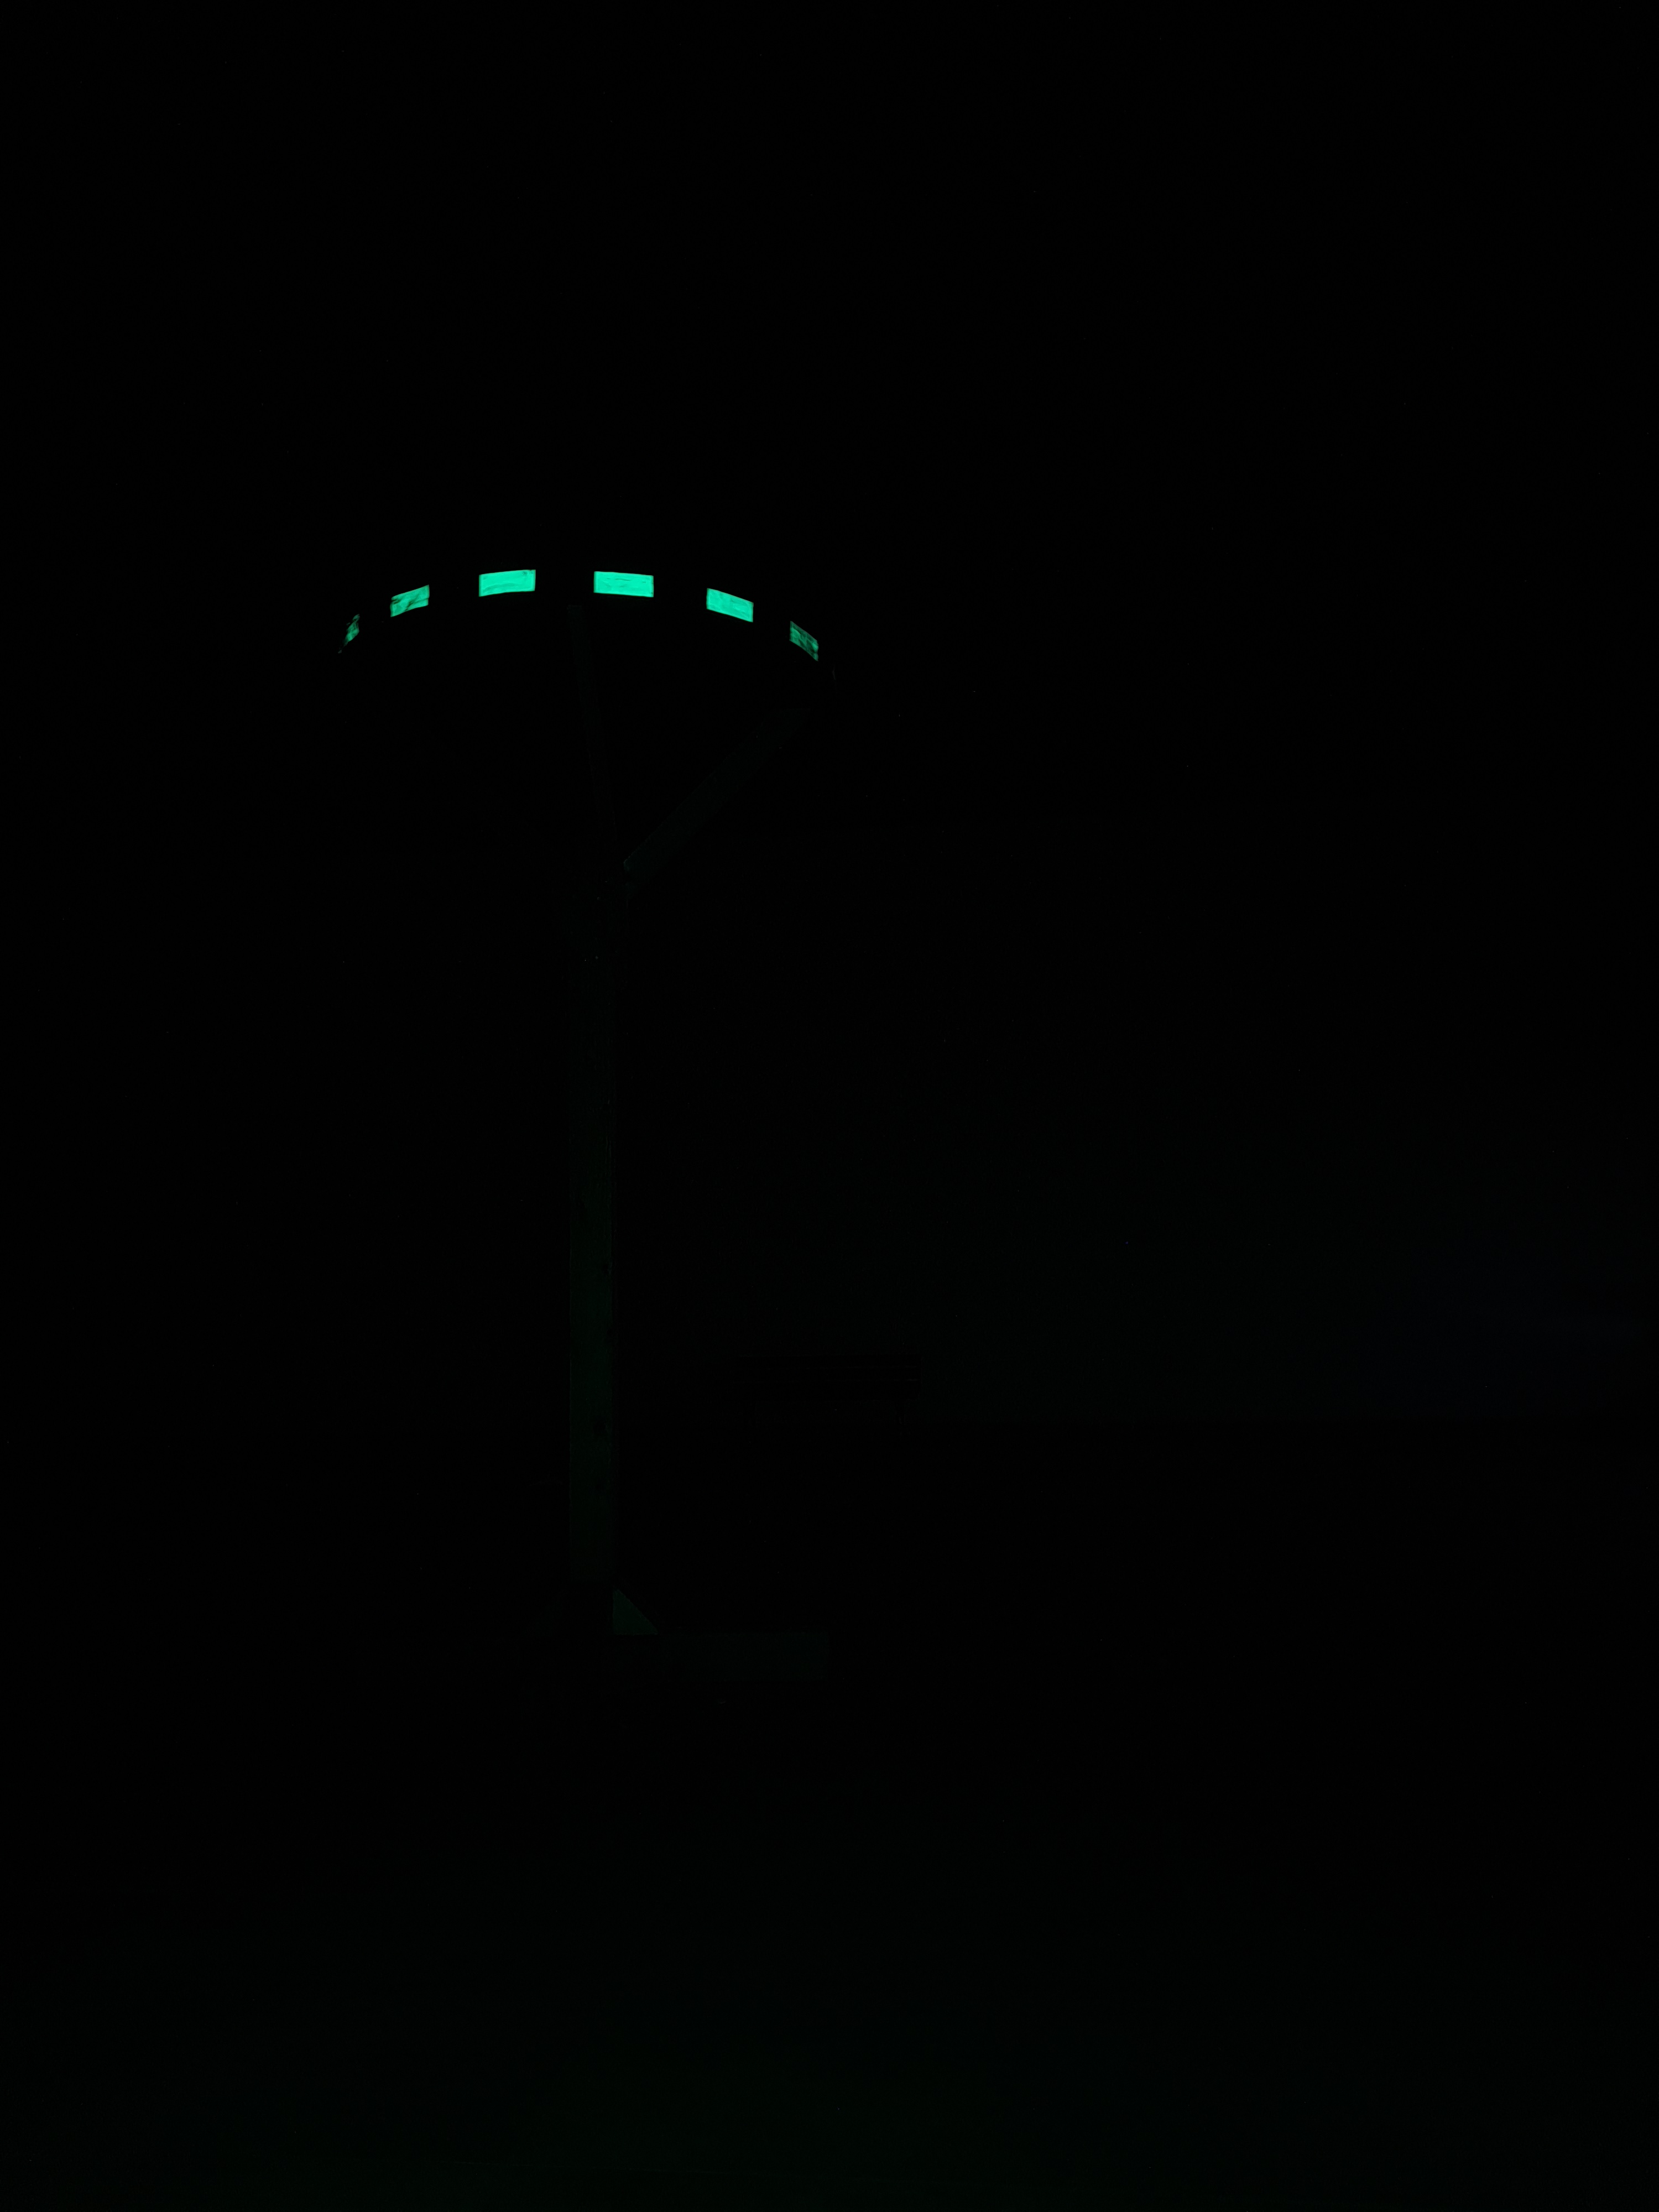hoop: (342, 556, 821, 674)
